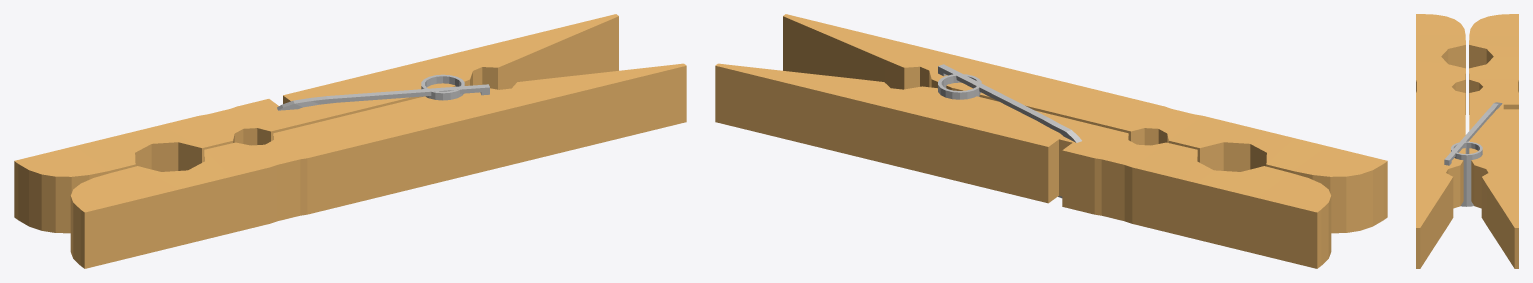
Rendered from 00af94f7-855f-4cc6-8fd3-aca44efd6731.glb.
The picture shows the model from 3 angles, left to right: view 1: azimuth 30°, elevation 25°; view 2: azimuth 150°, elevation 25°; view 3: azimuth 270°, elevation 25°; orthographic projection. The views are drawn at different scales.
Visible parts, largest first — view 1: Box002, Box003, Cylinder001; view 2: Box002, Box003, Cylinder001; view 3: Box002, Cylinder001, Box003.
Part boxes in pixels (left/top/right/bottom): Box002: left=14, top=14, right=686, bottom=268; Box003: left=277, top=84, right=489, bottom=110; Cylinder001: left=421, top=74, right=464, bottom=100; Box002: left=715, top=14, right=1387, bottom=268; Box003: left=938, top=64, right=1081, bottom=198; Cylinder001: left=938, top=74, right=981, bottom=99; Box002: left=1416, top=14, right=1518, bottom=268; Cylinder001: left=1451, top=141, right=1482, bottom=206; Box003: left=1444, top=102, right=1502, bottom=165.
Bounding box in the file's own units: 1134181 × 127729 × 230435.
